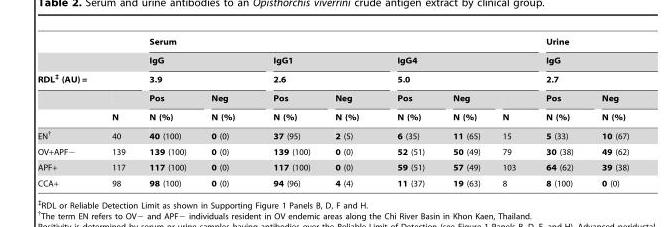table: (37, 37, 628, 187)
table column: (253, 37, 322, 187), (136, 37, 198, 187), (377, 37, 438, 187), (37, 37, 93, 187), (530, 37, 586, 187), (198, 37, 253, 187), (322, 37, 377, 187), (438, 37, 490, 187), (93, 37, 136, 187), (586, 37, 628, 187), (490, 37, 530, 187)
table column header: (37, 37, 628, 125)
table row: (37, 68, 628, 88), (37, 88, 628, 107), (37, 50, 628, 68), (37, 107, 628, 125), (37, 125, 628, 142), (37, 142, 628, 158), (37, 158, 628, 174), (37, 37, 628, 50), (37, 174, 628, 187)
table spanning cell: (377, 50, 530, 88), (136, 37, 530, 50), (530, 37, 628, 88), (253, 50, 377, 88), (136, 50, 253, 88), (253, 88, 322, 125), (136, 88, 198, 125), (377, 88, 438, 125), (530, 88, 586, 125), (198, 88, 253, 125), (322, 88, 377, 125), (37, 68, 136, 88), (438, 88, 490, 125), (93, 88, 136, 125), (586, 88, 628, 125), (490, 88, 530, 125)
